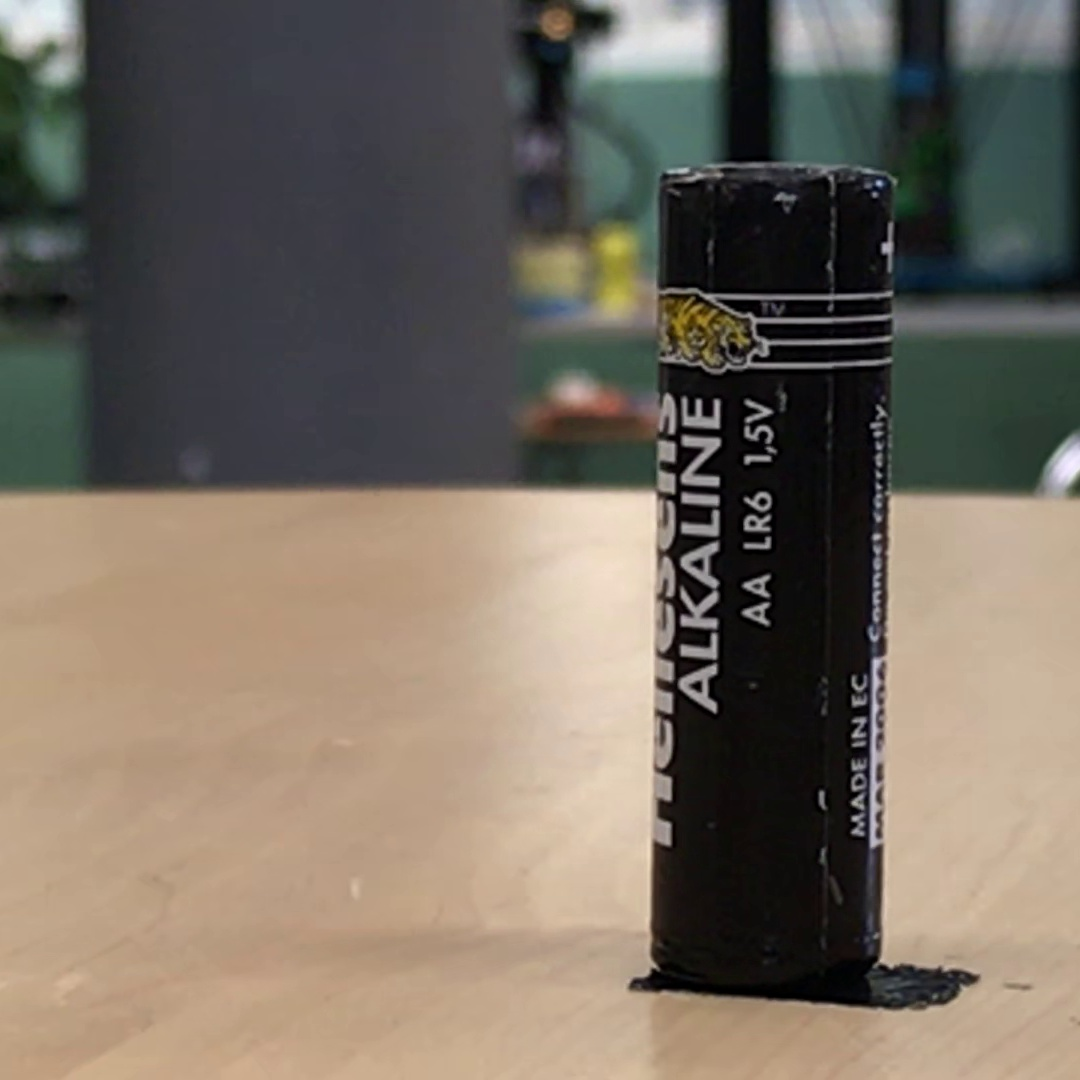keyword: (671, 598, 727, 723)
